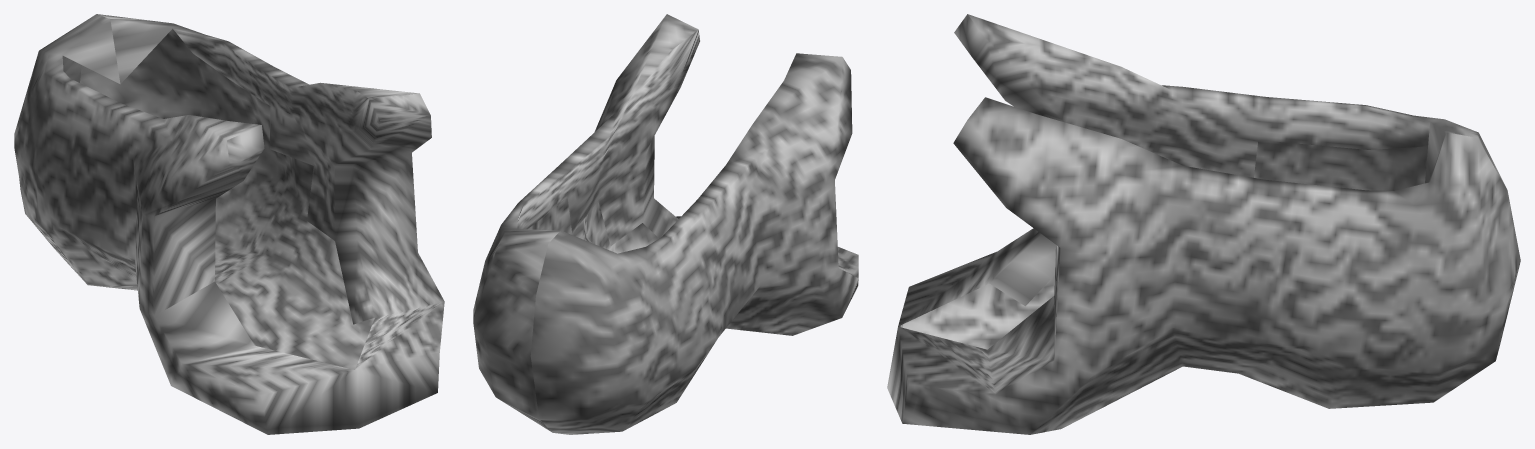
Rendered from Wig_Bob_Hair_HatLongBraided.fbx.
3 renders of one model, left to right at view 1: azimuth 30°, elevation 25°; view 2: azimuth 150°, elevation 25°; view 3: azimuth 270°, elevation 25°, orthographic. The views are drawn at different scales.
Visible parts, largest first — view 1: BoxOfJars003; view 2: BoxOfJars003; view 3: BoxOfJars003.
Boxes of the visible parts, left/top/right/bottom form: BoxOfJars003: left=14, top=14, right=444, bottom=434; BoxOfJars003: left=473, top=14, right=858, bottom=434; BoxOfJars003: left=887, top=14, right=1520, bottom=434.
Bounding box in the file's own units: 14.09 × 14.9 × 26.
